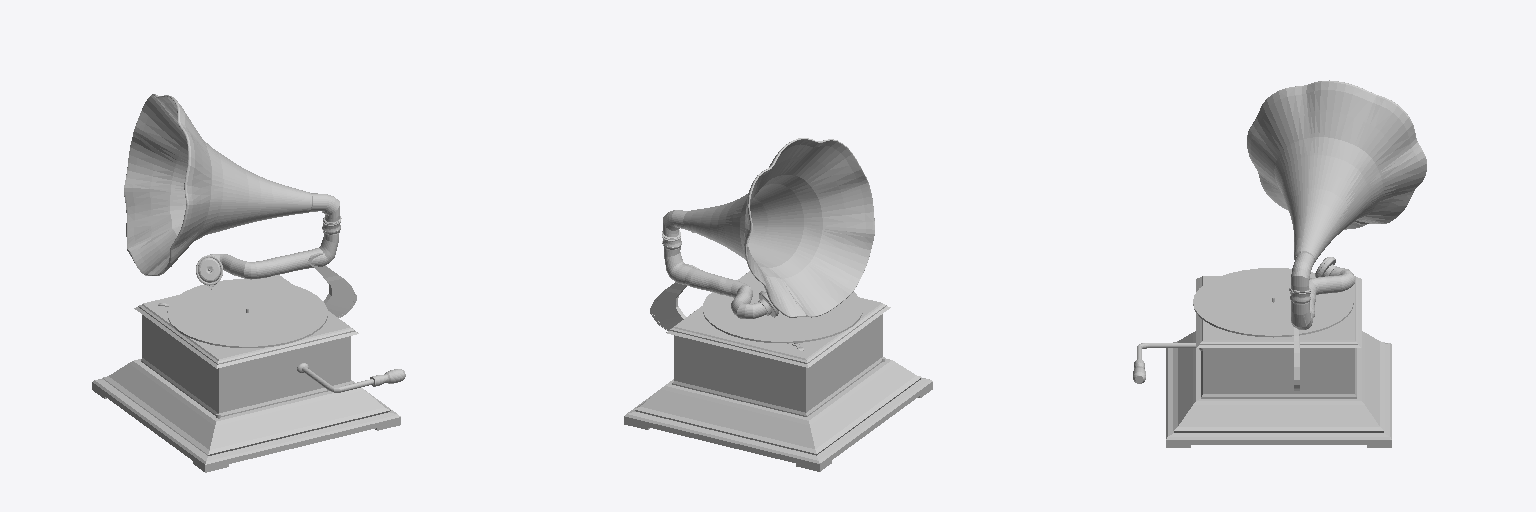
File: gramophone_bouton.obj
3 renders of one model, left to right at view 1: azimuth 30°, elevation 25°; view 2: azimuth 150°, elevation 25°; view 3: azimuth 270°, elevation 25°, orthographic.
Visible parts, largest first — view 1: sound_box_Cube.001, horn_Circle.002, mechanisim_Cylinder.001, elbow_Circle.004, back_bracket_Cube.004, reproducer_Circle.003; view 2: sound_box_Cube.001, horn_Circle.002, mechanisim_Cylinder.001, elbow_Circle.004, back_bracket_Cube.004; view 3: sound_box_Cube.001, horn_Circle.002, mechanisim_Cylinder.001, elbow_Circle.004.
Part boxes in pixels (x1,y1,x2,y2): sound_box_Cube.001: (92,275,400,472); horn_Circle.002: (124,94,312,275); mechanisim_Cylinder.001: (167,279,327,347); elbow_Circle.004: (210,193,341,279); back_bracket_Cube.004: (308,253,356,317); reproducer_Circle.003: (196,255,222,285); sound_box_Cube.001: (624,271,932,471); horn_Circle.002: (683,138,874,317); mechanisim_Cylinder.001: (703,276,862,343); elbow_Circle.004: (662,210,766,318); back_bracket_Cube.004: (650,264,698,330); sound_box_Cube.001: (1166,276,1391,447); horn_Circle.002: (1247,80,1426,262); mechanisim_Cylinder.001: (1193,268,1353,337); elbow_Circle.004: (1289,253,1354,329).
Bounding box in the file's own units: 27.92 × 36.87 × 33.08.